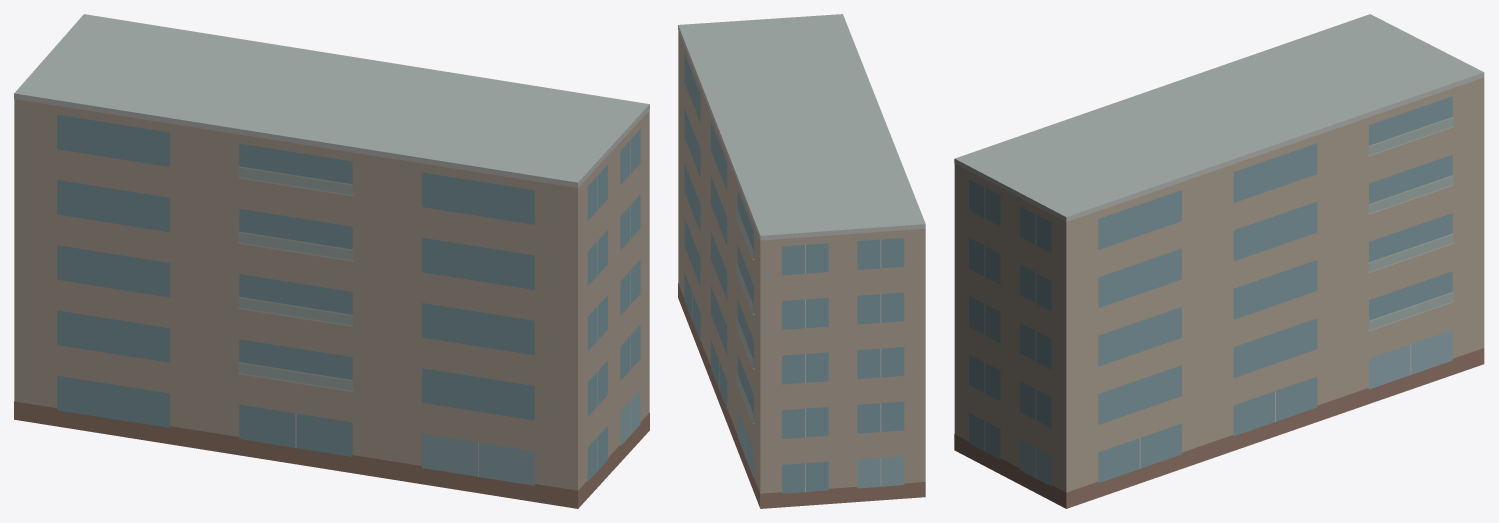
File: survey-upis-32764266.glb
3 renders of one model, left to right at view 1: azimuth 30°, elevation 25°; view 2: azimuth 150°, elevation 25°; view 3: azimuth 270°, elevation 25°, orthographic. The views are drawn at different scales.
Parts seen in each view (by area): view 1: survey-upis-32764266.tmp; view 2: survey-upis-32764266.tmp; view 3: survey-upis-32764266.tmp.
Boxes of the visible parts, <box> form: survey-upis-32764266.tmp: <box>14,14,649,508</box>; survey-upis-32764266.tmp: <box>678,14,925,508</box>; survey-upis-32764266.tmp: <box>954,14,1484,508</box>.
Size of the model in its own units: 21.52 by 14.4 by 23.71.
